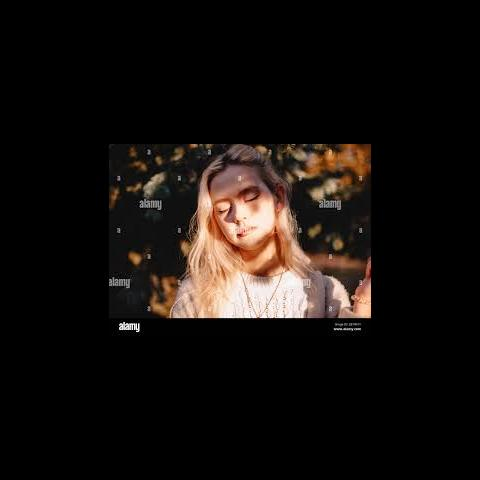closed: (212, 184, 260, 214)
